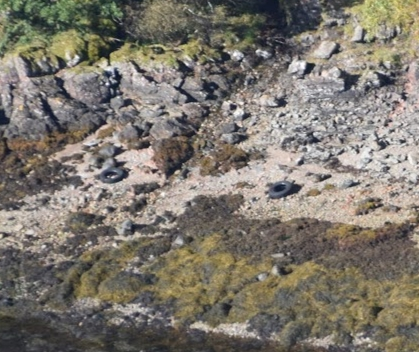white_in_green: (252, 165, 308, 212), (85, 152, 141, 196)
